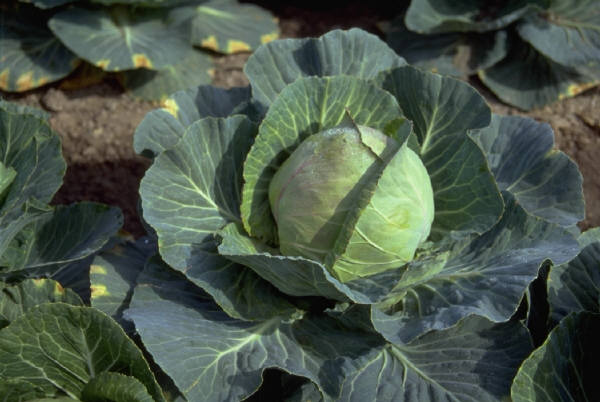cabbage: (119, 26, 584, 400)
